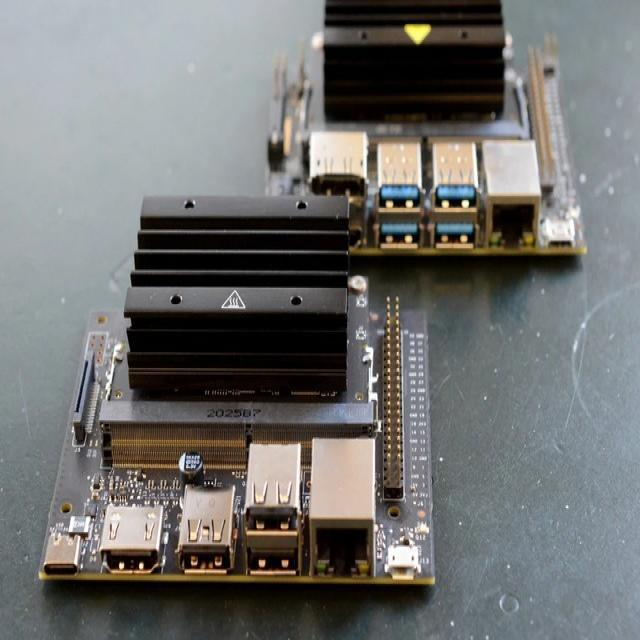Jetson Nano: (39, 195, 436, 584), (269, 3, 588, 254)
